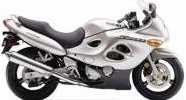motorcycle: (2, 1, 184, 99)
